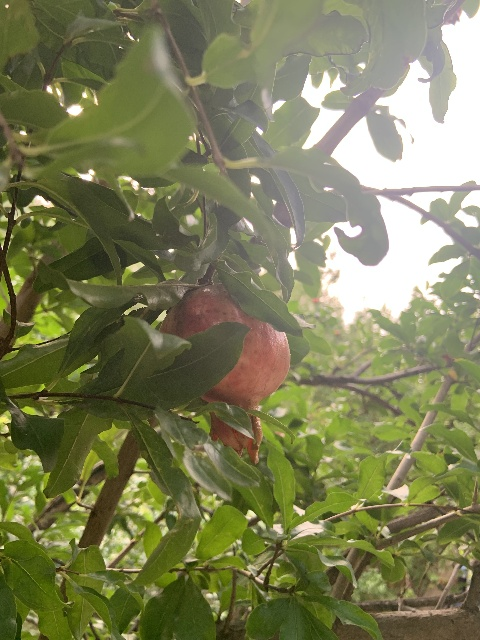ripe: (160, 287, 290, 465)
